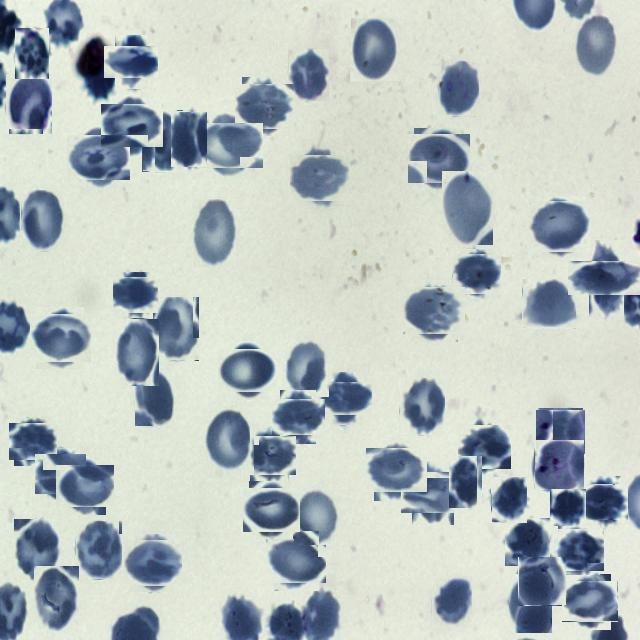red blood cell: (442, 171, 493, 245), (204, 408, 254, 472), (532, 198, 588, 255), (411, 131, 467, 187), (32, 310, 88, 366), (202, 118, 258, 174), (578, 250, 634, 306), (192, 199, 236, 269), (350, 18, 398, 82), (406, 284, 462, 338), (152, 297, 199, 361), (72, 130, 126, 185), (34, 566, 79, 632), (115, 319, 159, 386), (574, 12, 618, 78), (5, 74, 52, 135), (14, 519, 61, 580), (406, 466, 459, 519), (370, 444, 423, 497), (238, 80, 292, 132), (128, 536, 180, 590), (75, 521, 122, 580), (293, 152, 346, 204), (105, 100, 158, 152), (20, 190, 64, 252), (270, 535, 322, 587), (522, 278, 576, 328), (400, 378, 446, 436), (222, 345, 274, 396), (246, 484, 296, 536), (284, 340, 329, 397), (142, 110, 183, 172), (509, 574, 552, 633), (294, 489, 339, 545), (60, 460, 110, 510), (459, 422, 509, 472), (566, 578, 615, 626), (518, 557, 566, 606), (135, 368, 175, 426), (438, 61, 479, 117), (537, 409, 584, 456), (288, 49, 329, 102), (431, 576, 472, 629), (246, 432, 293, 478), (505, 518, 550, 566), (37, 451, 83, 497), (556, 527, 602, 573), (276, 394, 320, 440), (171, 110, 207, 166), (454, 251, 498, 296), (580, 480, 624, 524), (110, 40, 154, 84), (324, 377, 368, 420), (12, 420, 55, 463), (448, 456, 482, 509), (114, 274, 156, 316), (15, 28, 49, 79), (491, 477, 527, 523), (550, 489, 586, 526)
ring: (534, 440, 584, 490)
